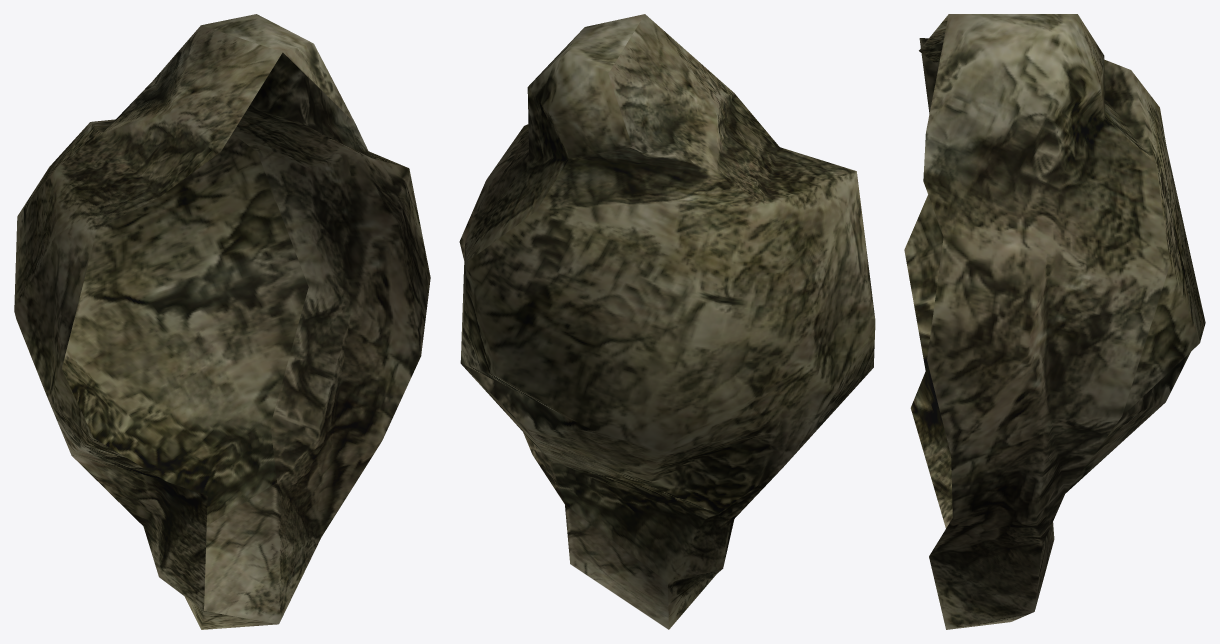
File: MEP_Rock_01_c.fbx
The picture shows the model from 3 angles, left to right: view 1: azimuth 30°, elevation 25°; view 2: azimuth 150°, elevation 25°; view 3: azimuth 270°, elevation 25°; orthographic projection. The views are drawn at different scales.
Visible parts, largest first — view 1: MEP_Rock_01_c; view 2: MEP_Rock_01_c; view 3: MEP_Rock_01_c.
Part boxes in pixels (x1,y1,x2,y2): MEP_Rock_01_c: (14,14,430,629); MEP_Rock_01_c: (459,14,875,629); MEP_Rock_01_c: (904,14,1205,629).
Size of the model in its own units: 17.78 by 26.35 by 11.31.
